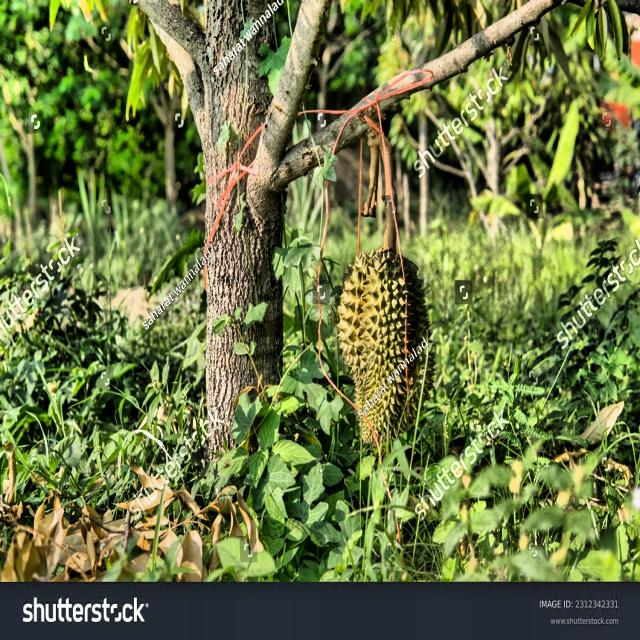arvore: (169, 0, 296, 488)
